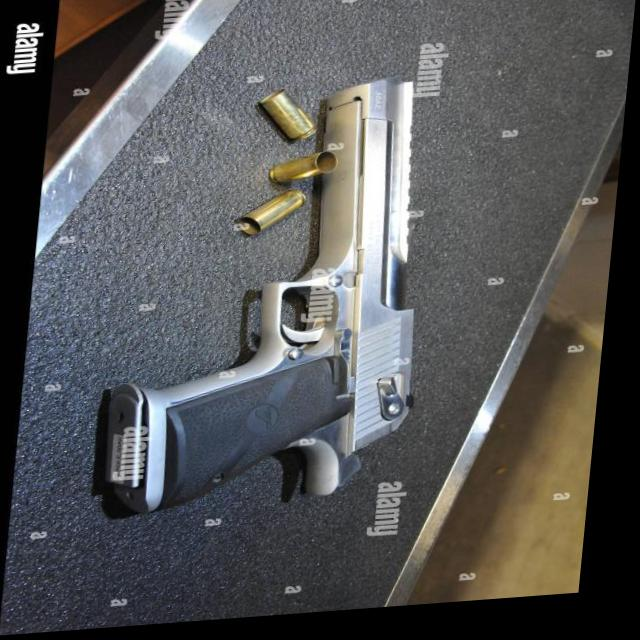handgun: (95, 79, 445, 540)
